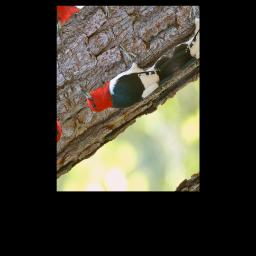Woodpecker: (74, 19, 178, 133)
